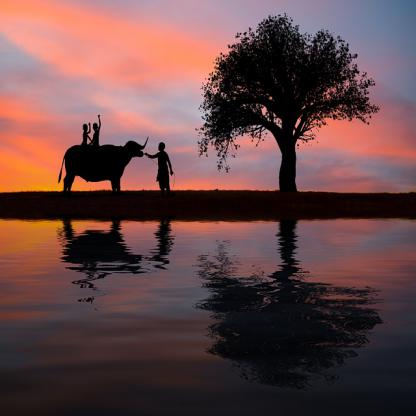cow: (60, 132, 150, 192)
